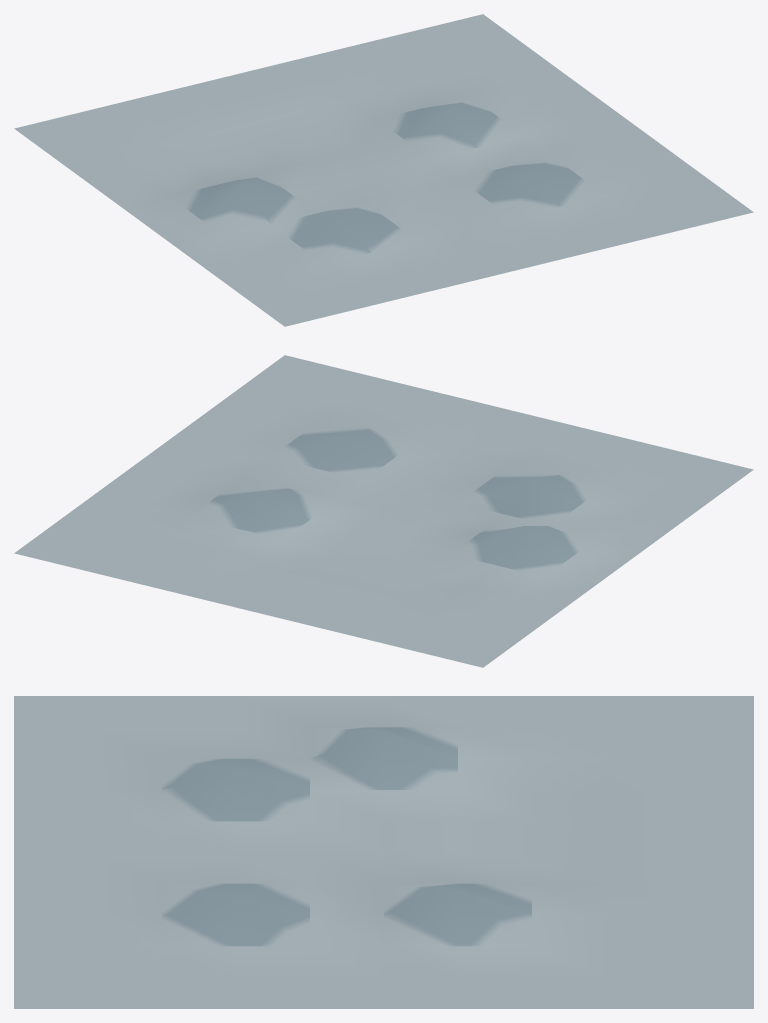
The model's file is Ground.fbx.
The picture shows the model from 3 angles, top to bottom: view 1: azimuth 30°, elevation 25°; view 2: azimuth 150°, elevation 25°; view 3: azimuth 270°, elevation 25°; orthographic projection. The views are drawn at different scales.
Visible parts, largest first — view 1: ground1; view 2: ground1; view 3: ground1.
Boxes of the visible parts, <box> form: ground1: <box>14,14,753,326</box>; ground1: <box>14,355,753,667</box>; ground1: <box>14,696,753,1008</box>.
Bounding box in the file's own units: 77.95 × 4.27 × 77.95.
1 material, 1 textured.
